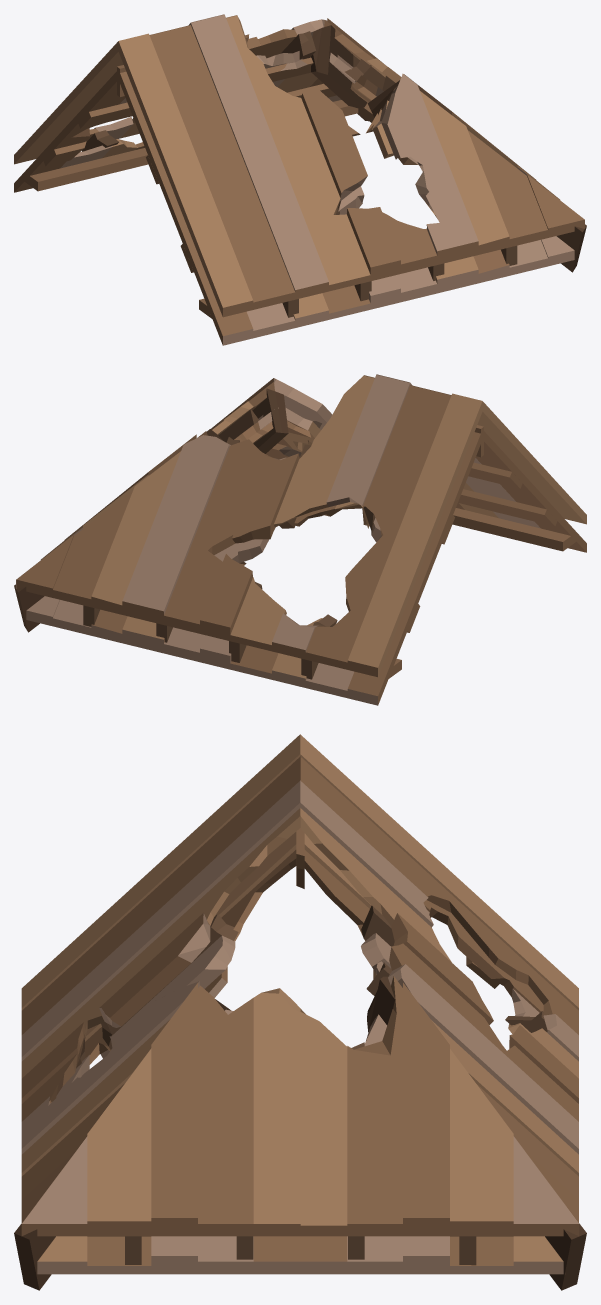
The model's file is SM_Roof_Top_Angle_Broken_lvl_2.glb.
The picture shows the model from 3 angles, top to bottom: view 1: azimuth 30°, elevation 25°; view 2: azimuth 150°, elevation 25°; view 3: azimuth 270°, elevation 25°; orthographic projection. The views are drawn at different scales.
Parts seen in each view (by area): view 1: SM_Roof_Top_Angle_Broken_lvl_2; view 2: SM_Roof_Top_Angle_Broken_lvl_2; view 3: SM_Roof_Top_Angle_Broken_lvl_2.
Part boxes in pixels (<box>): SM_Roof_Top_Angle_Broken_lvl_2: <box>14,14,586,345</box>; SM_Roof_Top_Angle_Broken_lvl_2: <box>14,374,586,705</box>; SM_Roof_Top_Angle_Broken_lvl_2: <box>14,734,586,1290</box>.
Bounding box in the file's own units: 2.03 × 1.28 × 2.06.
Materials: 1 (1 with a texture image).
